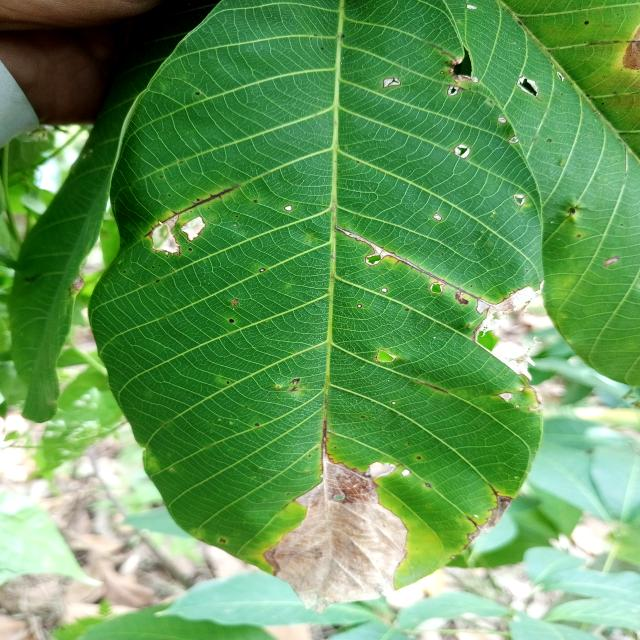Colletotrichum: (283, 205, 293, 211), (381, 287, 388, 293), (259, 268, 266, 272), (357, 304, 363, 308), (228, 319, 234, 323), (547, 138, 552, 142), (416, 456, 421, 460), (254, 423, 260, 426), (253, 200, 258, 203), (195, 92, 200, 95), (188, 248, 192, 251), (123, 270, 126, 274), (341, 35, 345, 38), (440, 72, 445, 74), (168, 194, 171, 197), (227, 381, 230, 384), (405, 309, 409, 311), (177, 234, 181, 236), (197, 199, 200, 201), (160, 176, 163, 178), (236, 215, 238, 218), (278, 386, 280, 388)
Corynespora: (335, 224, 480, 299), (146, 186, 240, 236), (320, 420, 334, 458), (465, 515, 478, 527), (490, 484, 500, 497)
Leaf-Blight: (262, 447, 410, 614), (476, 280, 544, 342)
